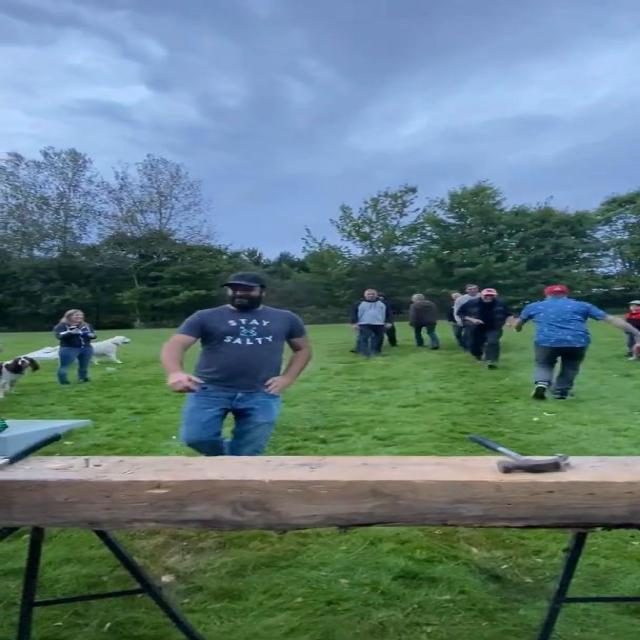hammer: (463, 431, 576, 477)
